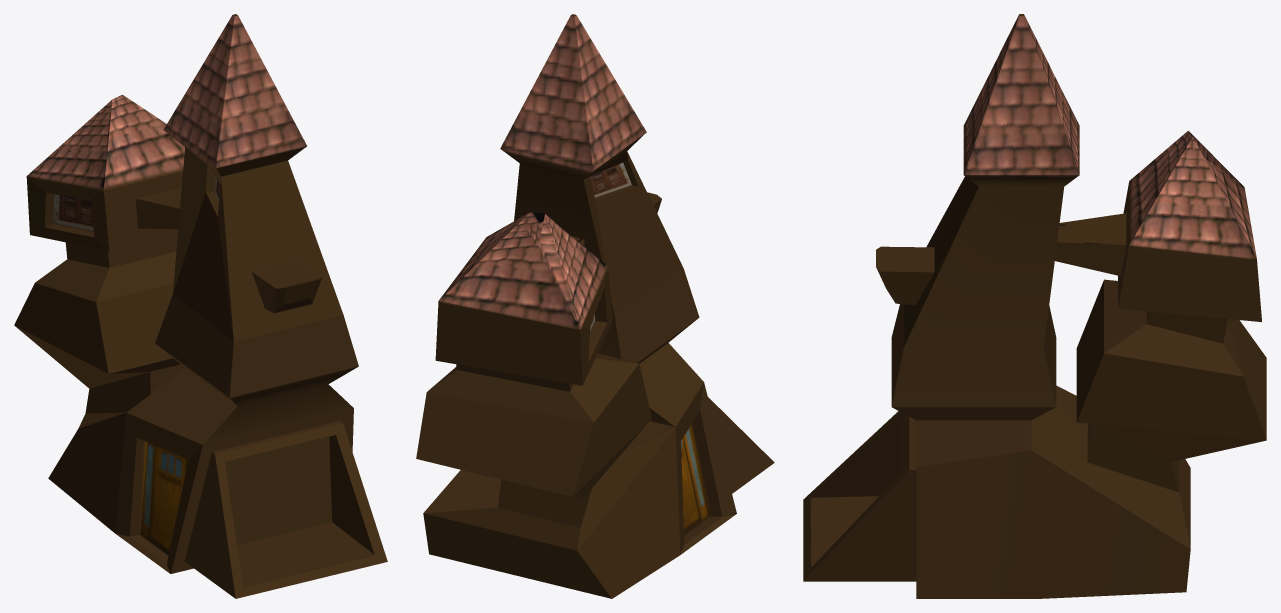
The model's file is Brown_1.fbx.
3 views of the same model, side by side, from view 1: azimuth 30°, elevation 25°; view 2: azimuth 150°, elevation 25°; view 3: azimuth 270°, elevation 25° (orthographic). The views are drawn at different scales.
Parts seen in each view (by area): view 1: pCube3; view 2: pCube3; view 3: pCube3.
Part boxes in pixels (bbox=[...]): pCube3: bbox=[14, 14, 387, 598]; pCube3: bbox=[416, 14, 774, 598]; pCube3: bbox=[803, 14, 1266, 598].
Size of the model in its own units: 4.63 by 11.99 by 9.19.
Materials: 1 (1 with a texture image).
